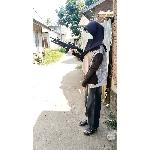Senapan: (48, 35, 85, 57)
